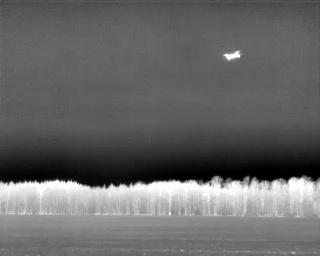DRONE: (220, 46, 246, 65)
